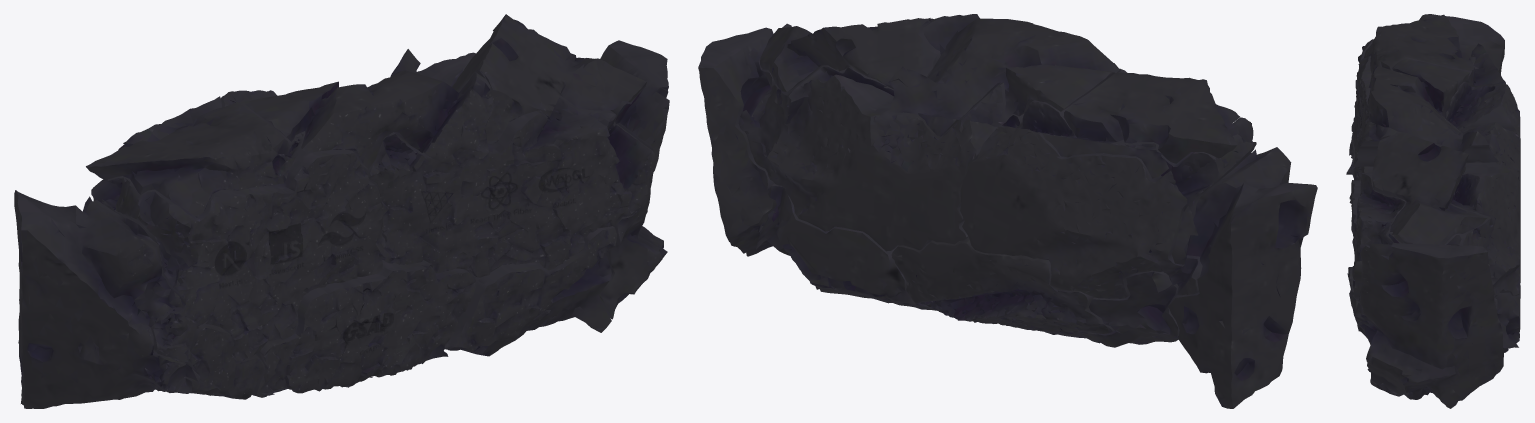
The model's file is skills-monolith.glb.
3 views of the same model, side by side, from view 1: azimuth 30°, elevation 25°; view 2: azimuth 150°, elevation 25°; view 3: azimuth 270°, elevation 25° (orthographic). The views are drawn at different scales.
Visible parts, largest first — view 1: Monolith_Fragment_01, Monolith_Fragment_02, Monolith_Fragment_07, Monolith_Fragment_03, Monolith_Fragment_05, Monolith_Fragment_04, Monolith_Fragment_10, Monolith_Fragment_06, Monolith_Fragment_08, Monolith_Fragment_09; view 2: Monolith_Fragment_01, Monolith_Fragment_02, Monolith_Fragment_07, Monolith_Fragment_05, Monolith_Fragment_03, Monolith_Fragment_04, Monolith_Fragment_08, Monolith_Fragment_06, Monolith_Fragment_10, Monolith_Fragment_09; view 3: Monolith_Fragment_08, Monolith_Fragment_02, Monolith_Fragment_05, Monolith_Fragment_06, Monolith_Fragment_04, Monolith_Fragment_01, Monolith_Fragment_10, Monolith_Fragment_07, Monolith_Fragment_03.
Part boxes in pixels (bbox=[...]): Monolith_Fragment_01: bbox=[91, 90, 388, 361]; Monolith_Fragment_02: bbox=[361, 52, 655, 277]; Monolith_Fragment_07: bbox=[14, 190, 200, 408]; Monolith_Fragment_03: bbox=[252, 260, 475, 397]; Monolith_Fragment_05: bbox=[242, 49, 493, 169]; Monolith_Fragment_04: bbox=[86, 96, 295, 217]; Monolith_Fragment_10: bbox=[370, 226, 616, 377]; Monolith_Fragment_06: bbox=[452, 14, 646, 144]; Monolith_Fragment_08: bbox=[599, 40, 669, 319]; Monolith_Fragment_09: bbox=[158, 324, 287, 399]; Monolith_Fragment_01: bbox=[960, 68, 1256, 298]; Monolith_Fragment_02: bbox=[738, 65, 1023, 251]; Monolith_Fragment_07: bbox=[1168, 147, 1317, 408]; Monolith_Fragment_05: bbox=[888, 14, 1120, 136]; Monolith_Fragment_03: bbox=[891, 237, 1114, 336]; Monolith_Fragment_04: bbox=[1042, 72, 1239, 178]; Monolith_Fragment_08: bbox=[698, 23, 791, 256]; Monolith_Fragment_06: bbox=[760, 18, 940, 91]; Monolith_Fragment_10: bbox=[756, 183, 938, 310]; Monolith_Fragment_09: bbox=[1037, 270, 1179, 347]; Monolith_Fragment_08: bbox=[1355, 233, 1503, 408]; Monolith_Fragment_02: bbox=[1352, 116, 1520, 298]; Monolith_Fragment_05: bbox=[1353, 58, 1500, 167]; Monolith_Fragment_06: bbox=[1372, 131, 1486, 244]; Monolith_Fragment_04: bbox=[1363, 14, 1505, 87]; Monolith_Fragment_01: bbox=[1349, 39, 1520, 189]; Monolith_Fragment_10: bbox=[1347, 267, 1520, 396]; Monolith_Fragment_07: bbox=[1346, 14, 1504, 174]; Monolith_Fragment_03: bbox=[1349, 180, 1360, 253].
Size of the model in its own units: 8.24 by 3.53 by 2.44.
Materials: 1 (1 with a texture image).
